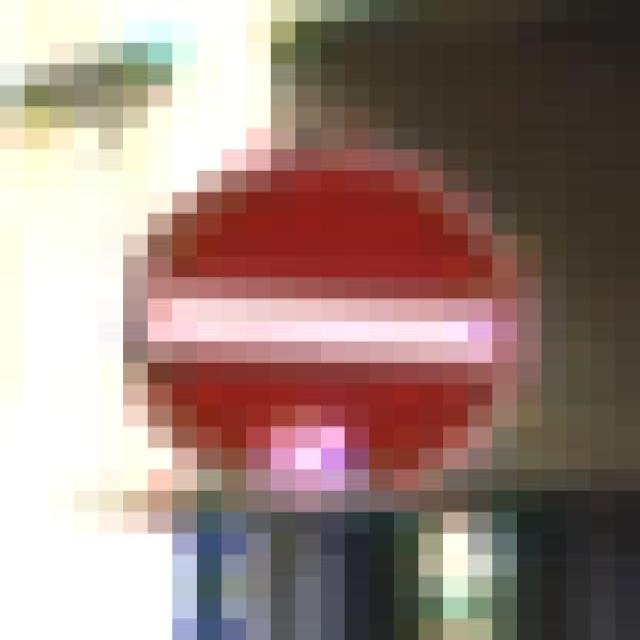No Entry: (85, 146, 577, 531)
